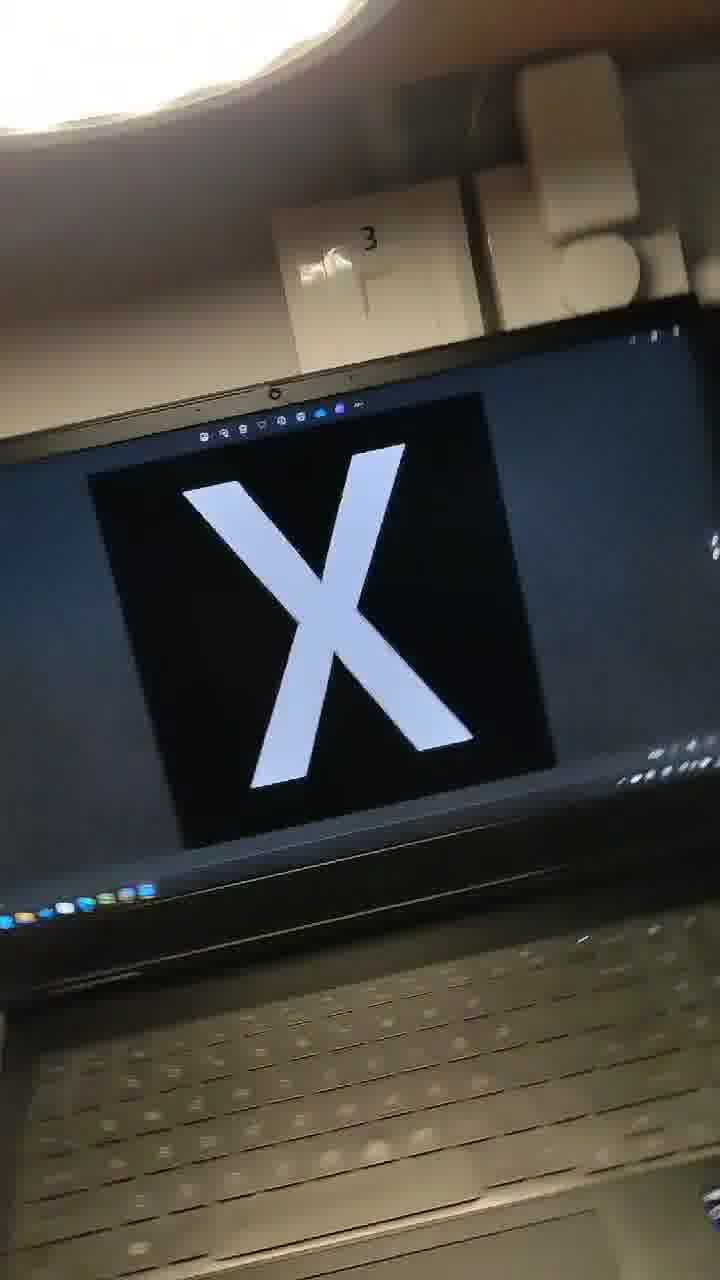X: (76, 342, 534, 821)
